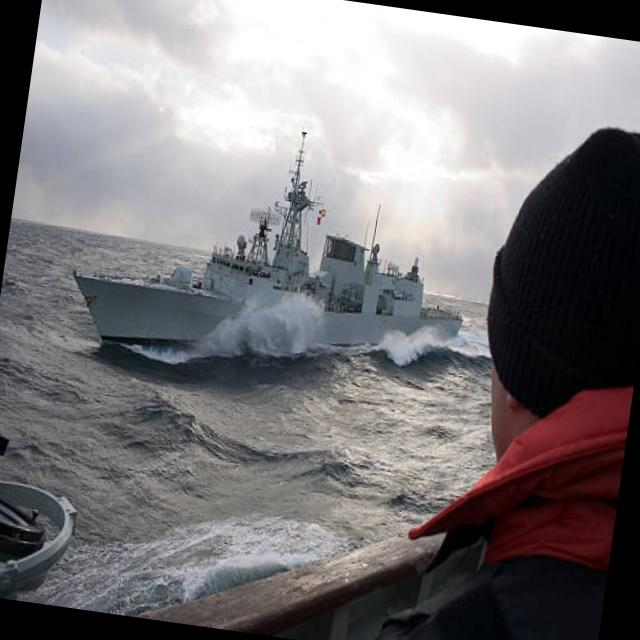Military: (72, 132, 463, 366)
